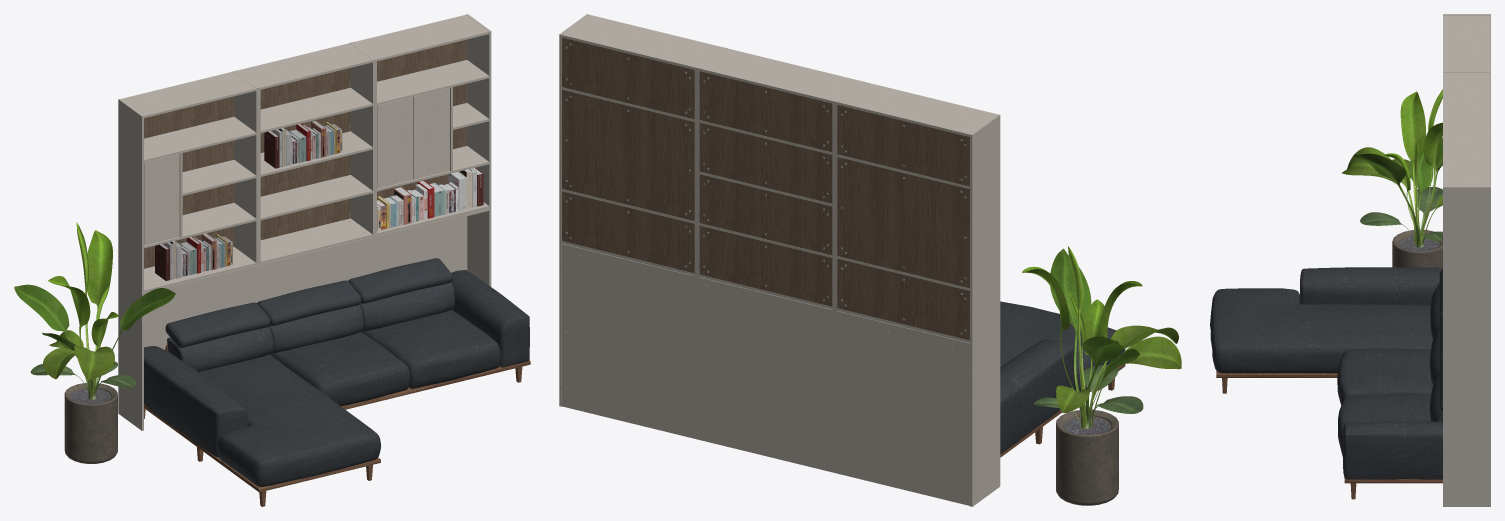
The picture shows the model from 3 angles, left to right: view 1: azimuth 30°, elevation 25°; view 2: azimuth 150°, elevation 25°; view 3: azimuth 270°, elevation 25°; orthographic projection. The views are drawn at different scales.
Parts seen in each view (by area): view 1: Object_10, Object_6, M_HAT_18 [1] 185_68, plant_lambert2_0_13, OLD_B 170_53, concrete_pot_lambert3_0_11, Cube_books_0.002_657, OLD_J 169_52, OLD_J 143_26, AJ_NY_PU (dupla) [1] 163_46, AJ_NY_PU (dupla) [1] 162_45, object 46 (+31 smaller); view 2: M_HAT_18 [1] 185_68, M_HAT_18 [2] 175_58, M_HAT_18 [2] 160_43, plant_lambert2_0_13, M_HAT_18 [4] 159_42, M_HAT_18 [1] 173_56, M_HAT_18 [1] 158_41, M_HAT_18 [4] 174_57, M_HAT_18 [2] 149_32, M_HAT_18 [4] 151_34, M_HAT_18 [1] 148_31, M_HAT_18 [3] 150_33 (+15 smaller); view 3: Object_10, Object_6, OLD_J 154_37, OLD_J 183_66, plant_lambert2_0_13, TET 153_36, TET 142_25, TET 168_51, concrete_pot_lambert3_0_11, Object_12, Object_8.
Part boxes in pixels (<box>): Object_10: <box>199,310,500,487</box>; Object_6: <box>144,258,529,457</box>; M_HAT_18 [1] 185_68: <box>144,216,467,349</box>; plant_lambert2_0_13: <box>14,222,175,399</box>; OLD_B 170_53: <box>118,99,143,292</box>; concrete_pot_lambert3_0_11: <box>64,383,117,463</box>; Cube_books_0.002_657: <box>377,167,483,230</box>; OLD_J 169_52: <box>233,71,258,265</box>; OLD_J 143_26: <box>349,42,374,236</box>; AJ_NY_PU (dupla) [1] 163_46: <box>413,88,449,179</box>; AJ_NY_PU (dupla) [1] 162_45: <box>377,97,413,188</box>; object 46: <box>144,154,179,245</box>; M_HAT_18 [1] 185_68: <box>562,246,969,505</box>; M_HAT_18 [2] 175_58: <box>837,157,969,288</box>; M_HAT_18 [2] 160_43: <box>562,90,694,220</box>; plant_lambert2_0_13: <box>1022,246,1181,428</box>; M_HAT_18 [4] 159_42: <box>562,37,694,119</box>; M_HAT_18 [1] 173_56: <box>837,258,969,340</box>; M_HAT_18 [1] 158_41: <box>562,191,694,273</box>; M_HAT_18 [4] 174_57: <box>837,105,969,186</box>; M_HAT_18 [2] 149_32: <box>699,174,832,255</box>; M_HAT_18 [4] 151_34: <box>699,71,832,152</box>; M_HAT_18 [1] 148_31: <box>699,226,832,306</box>; M_HAT_18 [3] 150_33: <box>699,123,832,203</box>; Object_10: <box>1210,288,1432,456</box>; Object_6: <box>1300,267,1442,479</box>; OLD_J 154_37: <box>1443,186,1490,366</box>; OLD_J 183_66: <box>1443,367,1490,506</box>; plant_lambert2_0_13: <box>1342,89,1442,247</box>; TET 153_36: <box>1443,130,1490,186</box>; TET 142_25: <box>1443,73,1490,128</box>; TET 168_51: <box>1443,15,1490,70</box>; concrete_pot_lambert3_0_11: <box>1392,229,1442,267</box>; Object_12: <box>1216,371,1442,483</box>; Object_8: <box>1213,291,1431,429</box>.
Bounding box in the file's own units: 4.06 × 2.58 × 2.05.
Materials: 20 (13 with a texture image).
